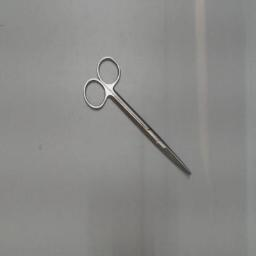Curved Mayo Scissors: (79, 49, 195, 181)
